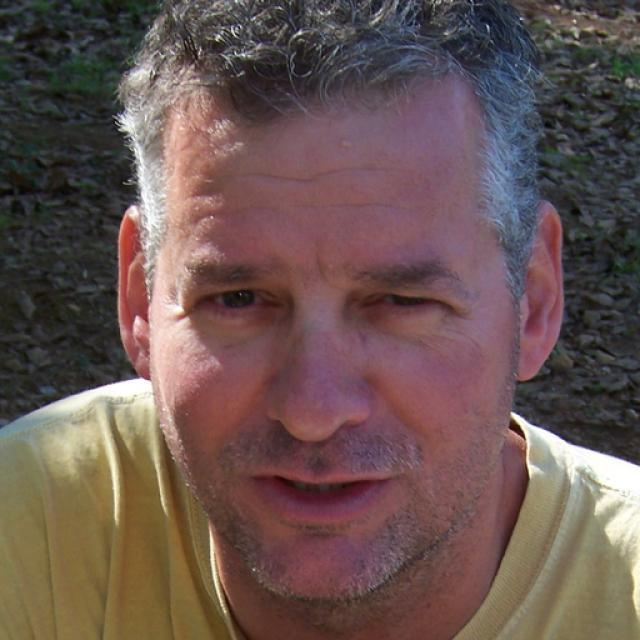sad: (148, 79, 516, 612)
